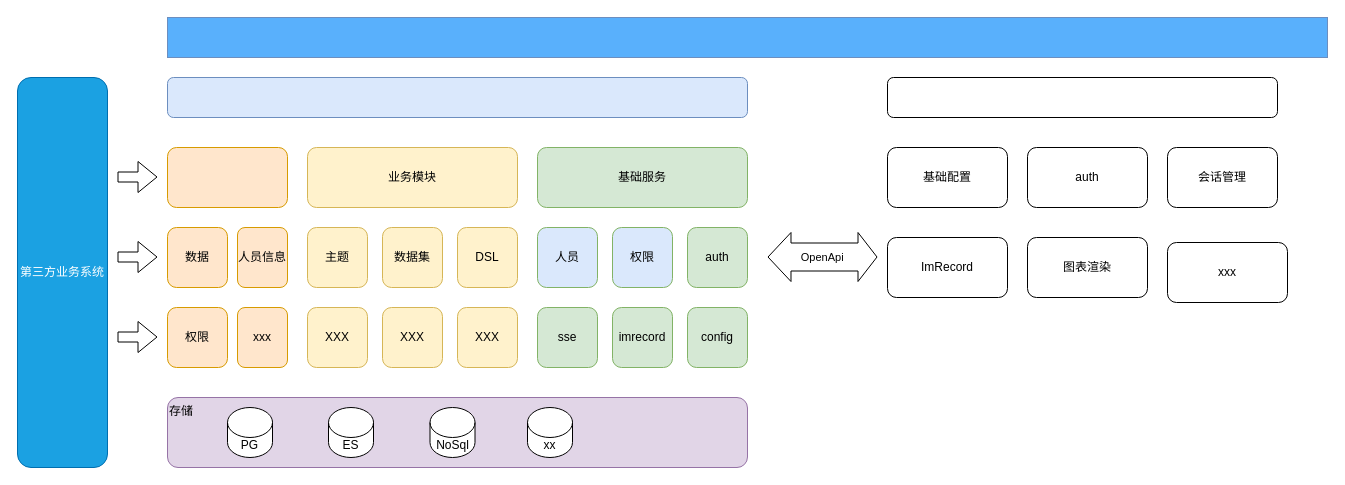
This 1345x485 diagram has some shape labels left out. The shapes that lost their labels are listed below. From the top down, each one's centre as x and y in pixels, then its label:
At (x=747, y=37): "ChatBI".
At (x=457, y=97): "后台(苍穹)".
At (x=1082, y=97): "web/h5".
At (x=227, y=177): "集成服务".
